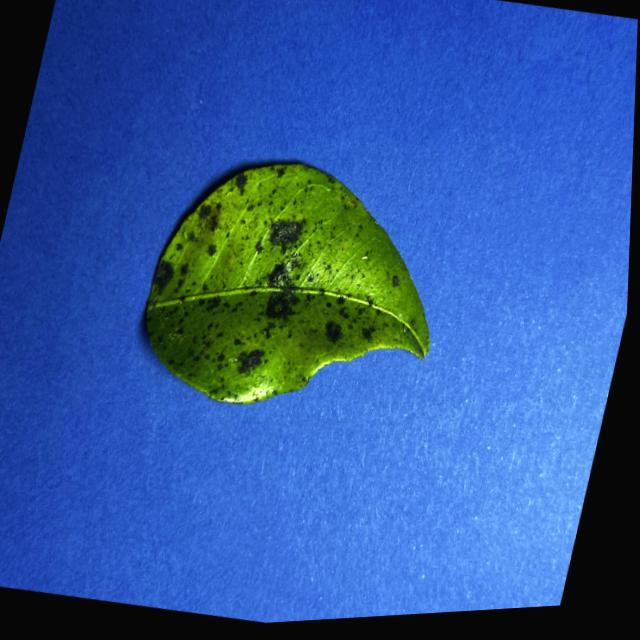sooty_mold: (146, 164, 430, 403)
